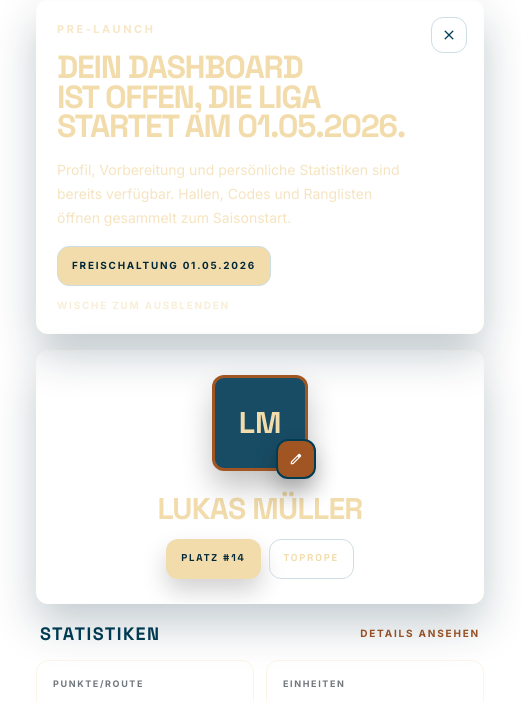
Test: ProfileScreen › allows dismissing the prelaunch notice and keeps it hidden on remount
Click the button named "Pre-Launch-Hinweis ausblenden" at (449, 35), box [431,17,467,53]
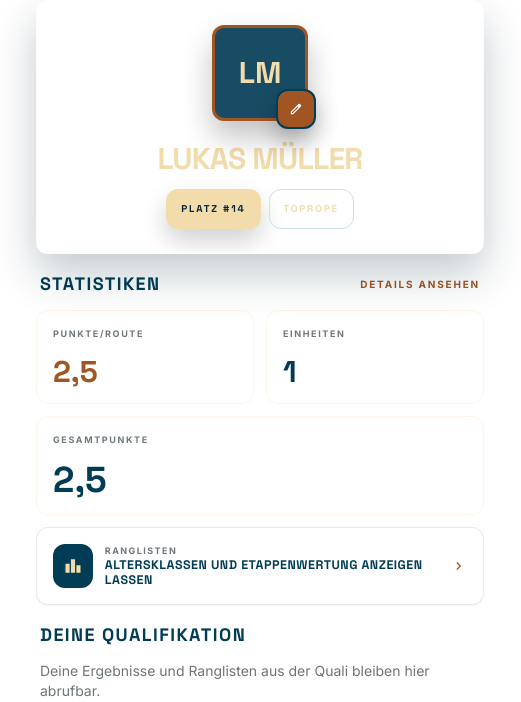
Result: the text "Pre-Launch" is gone
